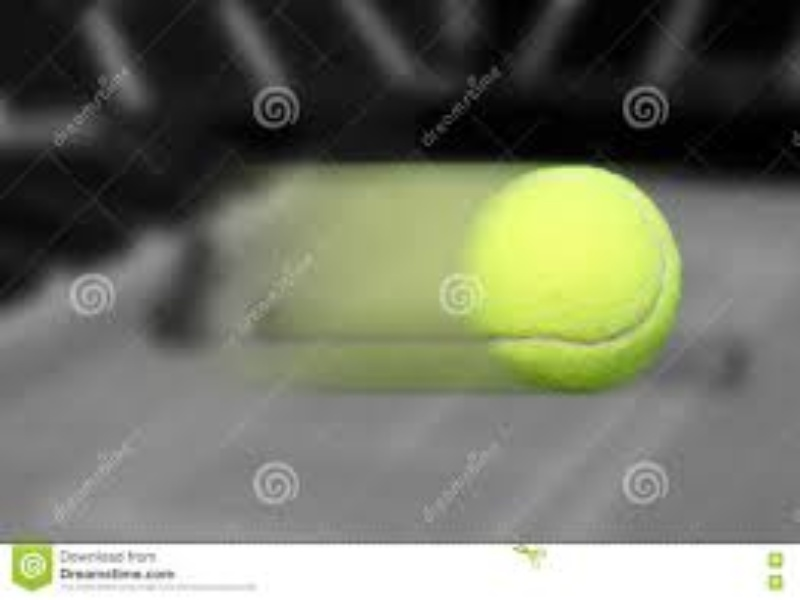tennis ball: (319, 155, 696, 407)
